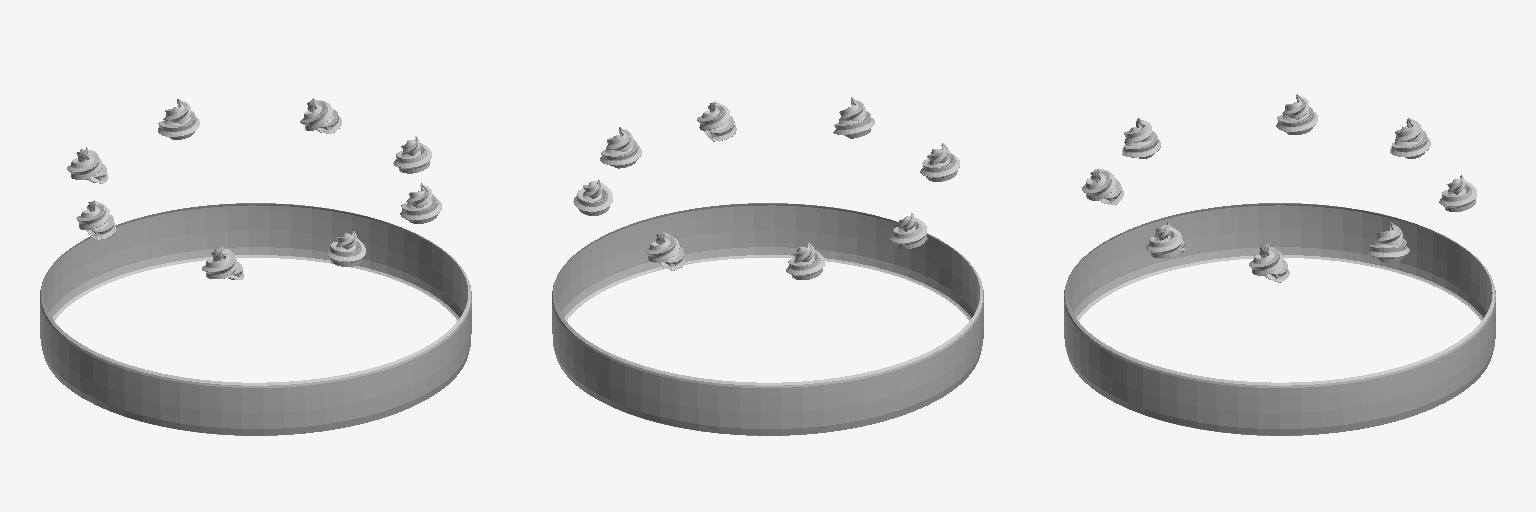
The picture shows the model from 3 angles: view 1: azimuth 30°, elevation 25°; view 2: azimuth 150°, elevation 25°; view 3: azimuth 270°, elevation 25°; orthographic projection.
Parts seen in each view (by area): view 1: 008_Buffer_Layer, 001_Buffer_Layer, 004_Buffer_Layer, 003_Buffer_Layer, 005_Buffer_Layer, 002_Buffer_Layer, 007_Buffer_Layer, 000_Buffer_Layer, 006_Buffer_Layer; view 2: 008_Buffer_Layer, 000_Buffer_Layer, 004_Buffer_Layer, 002_Buffer_Layer, 005_Buffer_Layer, 001_Buffer_Layer, 006_Buffer_Layer, 007_Buffer_Layer, 003_Buffer_Layer; view 3: 008_Buffer_Layer, 007_Buffer_Layer, 003_Buffer_Layer, 006_Buffer_Layer, 002_Buffer_Layer, 005_Buffer_Layer, 000_Buffer_Layer, 001_Buffer_Layer, 004_Buffer_Layer.
Part boxes in pixels (left/top/right/bottom): 008_Buffer_Layer: left=40, top=203, right=471, bottom=435; 001_Buffer_Layer: left=158, top=99, right=199, bottom=139; 004_Buffer_Layer: left=400, top=183, right=441, bottom=223; 003_Buffer_Layer: left=76, top=200, right=116, bottom=239; 005_Buffer_Layer: left=300, top=98, right=341, bottom=133; 002_Buffer_Layer: left=326, top=230, right=365, bottom=266; 007_Buffer_Layer: left=67, top=147, right=107, bottom=183; 000_Buffer_Layer: left=393, top=136, right=431, bottom=173; 006_Buffer_Layer: left=202, top=246, right=243, bottom=279; 008_Buffer_Layer: left=552, top=203, right=983, bottom=435; 000_Buffer_Layer: left=600, top=127, right=641, bottom=168; 004_Buffer_Layer: left=697, top=101, right=736, bottom=141; 002_Buffer_Layer: left=833, top=97, right=874, bottom=138; 005_Buffer_Layer: left=573, top=180, right=612, bottom=215; 001_Buffer_Layer: left=645, top=232, right=685, bottom=270; 006_Buffer_Layer: left=920, top=143, right=959, bottom=181; 007_Buffer_Layer: left=786, top=242, right=824, bottom=279; 003_Buffer_Layer: left=890, top=213, right=928, bottom=248; 008_Buffer_Layer: left=1064, top=203, right=1495, bottom=435; 007_Buffer_Layer: left=1390, top=118, right=1430, bottom=158; 003_Buffer_Layer: left=1276, top=94, right=1317, bottom=134; 006_Buffer_Layer: left=1122, top=118, right=1160, bottom=158; 002_Buffer_Layer: left=1082, top=169, right=1123, bottom=205; 005_Buffer_Layer: left=1367, top=222, right=1409, bottom=262; 000_Buffer_Layer: left=1249, top=244, right=1289, bottom=282; 001_Buffer_Layer: left=1439, top=175, right=1476, bottom=211; 004_Buffer_Layer: left=1146, top=222, right=1185, bottom=257.
Bounding box in the file's own units: 88.75 × 41.1 × 88.75.